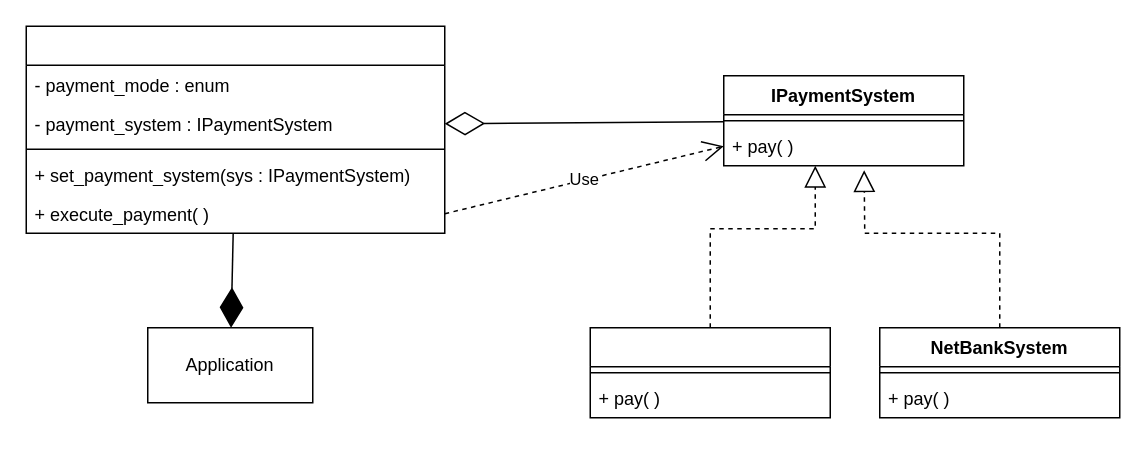
Image size: 1146x449. Some labels were removed from this diagram. Here are the shapes that lost their labels. From the top down, the box of each, then its label:
(25, 25, 445, 233): ShoppingCart
(589, 326, 830, 418): CreditCardSystem
